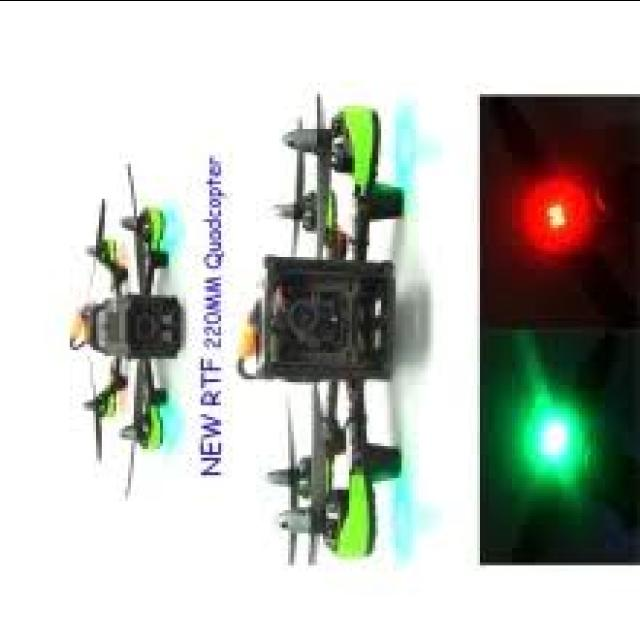drone: (241, 57, 435, 576), (59, 145, 204, 499)
